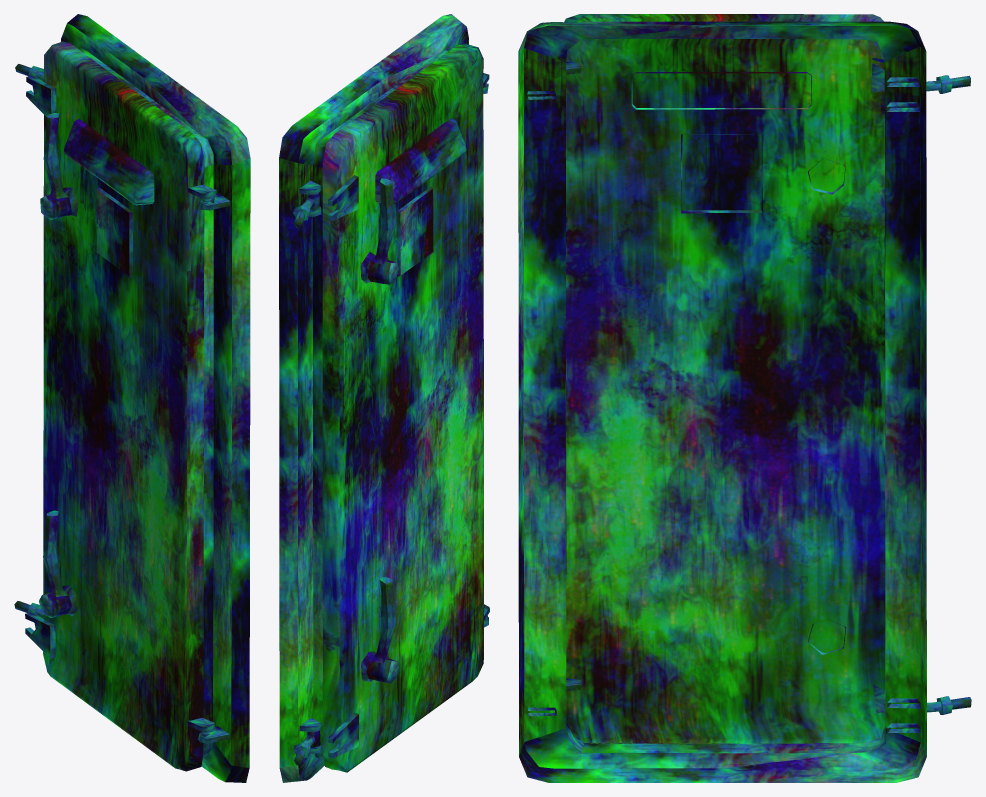
Rendered from SM_CaptainDoor.fbx.
The picture shows the model from 3 angles, left to right: view 1: azimuth 30°, elevation 25°; view 2: azimuth 150°, elevation 25°; view 3: azimuth 270°, elevation 25°; orthographic projection. The views are drawn at different scales.
Parts seen in each view (by area): view 1: SM_CaptainDoor_LOD0; view 2: SM_CaptainDoor_LOD0; view 3: SM_CaptainDoor_LOD0.
Boxes of the visible parts, x1,y1,x2,y2 form: SM_CaptainDoor_LOD0: [14, 14, 250, 782]; SM_CaptainDoor_LOD0: [279, 14, 489, 782]; SM_CaptainDoor_LOD0: [518, 14, 971, 782].
Size of the model in its own units: 15.75 by 72.71 by 134.
Materials: 1 (1 with a texture image).
